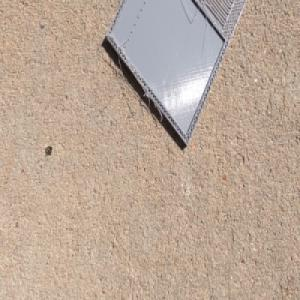PlasticPart: (104, 0, 249, 149)
